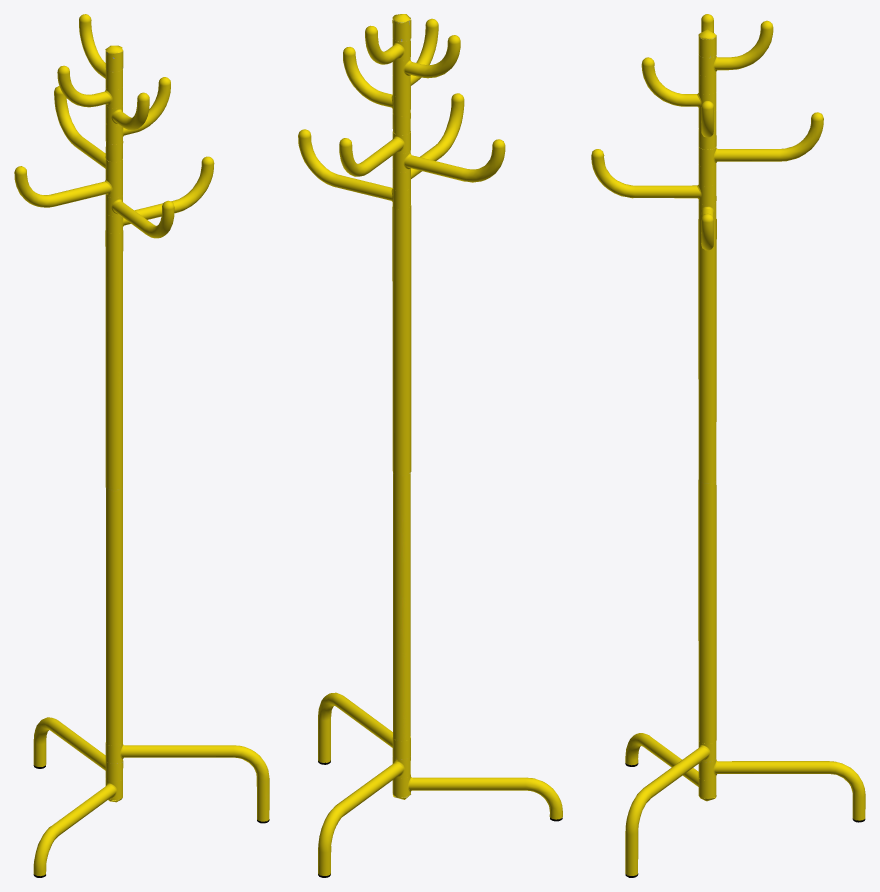
Rendered from bondskaret_wieszak_stojacy_40554381.glb.
3 views of the same model, side by side, from view 1: azimuth 30°, elevation 25°; view 2: azimuth 150°, elevation 25°; view 3: azimuth 270°, elevation 25° (orthographic). The views are drawn at different scales.
Visible parts, largest first — view 1: bondskaret_wieszak_stojacy_40554381; view 2: bondskaret_wieszak_stojacy_40554381; view 3: bondskaret_wieszak_stojacy_40554381.
Boxes of the visible parts, box(x1,y1,x2,y2) form: bondskaret_wieszak_stojacy_40554381: box(14, 14, 269, 877); bondskaret_wieszak_stojacy_40554381: box(298, 14, 562, 877); bondskaret_wieszak_stojacy_40554381: box(591, 14, 865, 877).
Size of the model in its own units: 0.5453 by 1.75 by 0.5432.
Materials: 12 (12 with a texture image).
